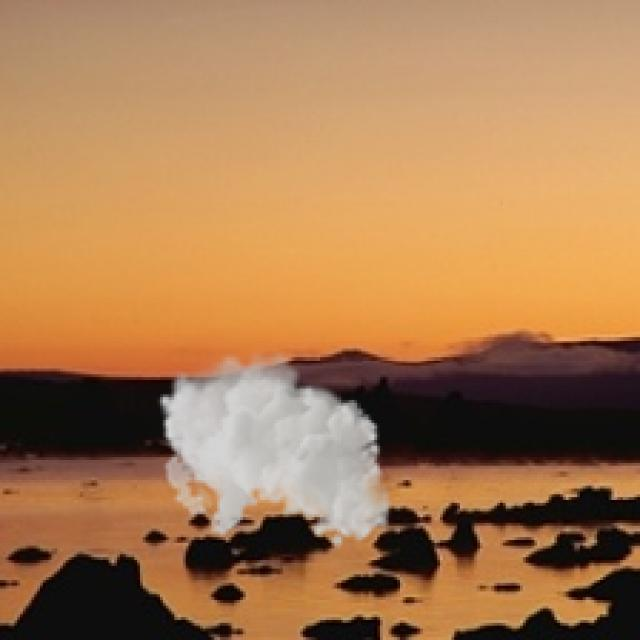smoke: (157, 346, 392, 548)
